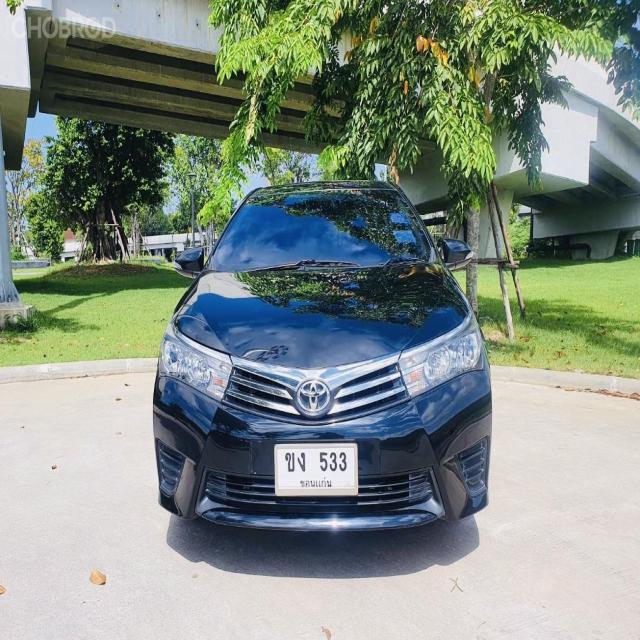license_plate: (272, 438, 361, 499)
